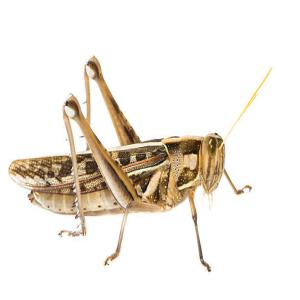locust: (9, 95, 257, 231)
